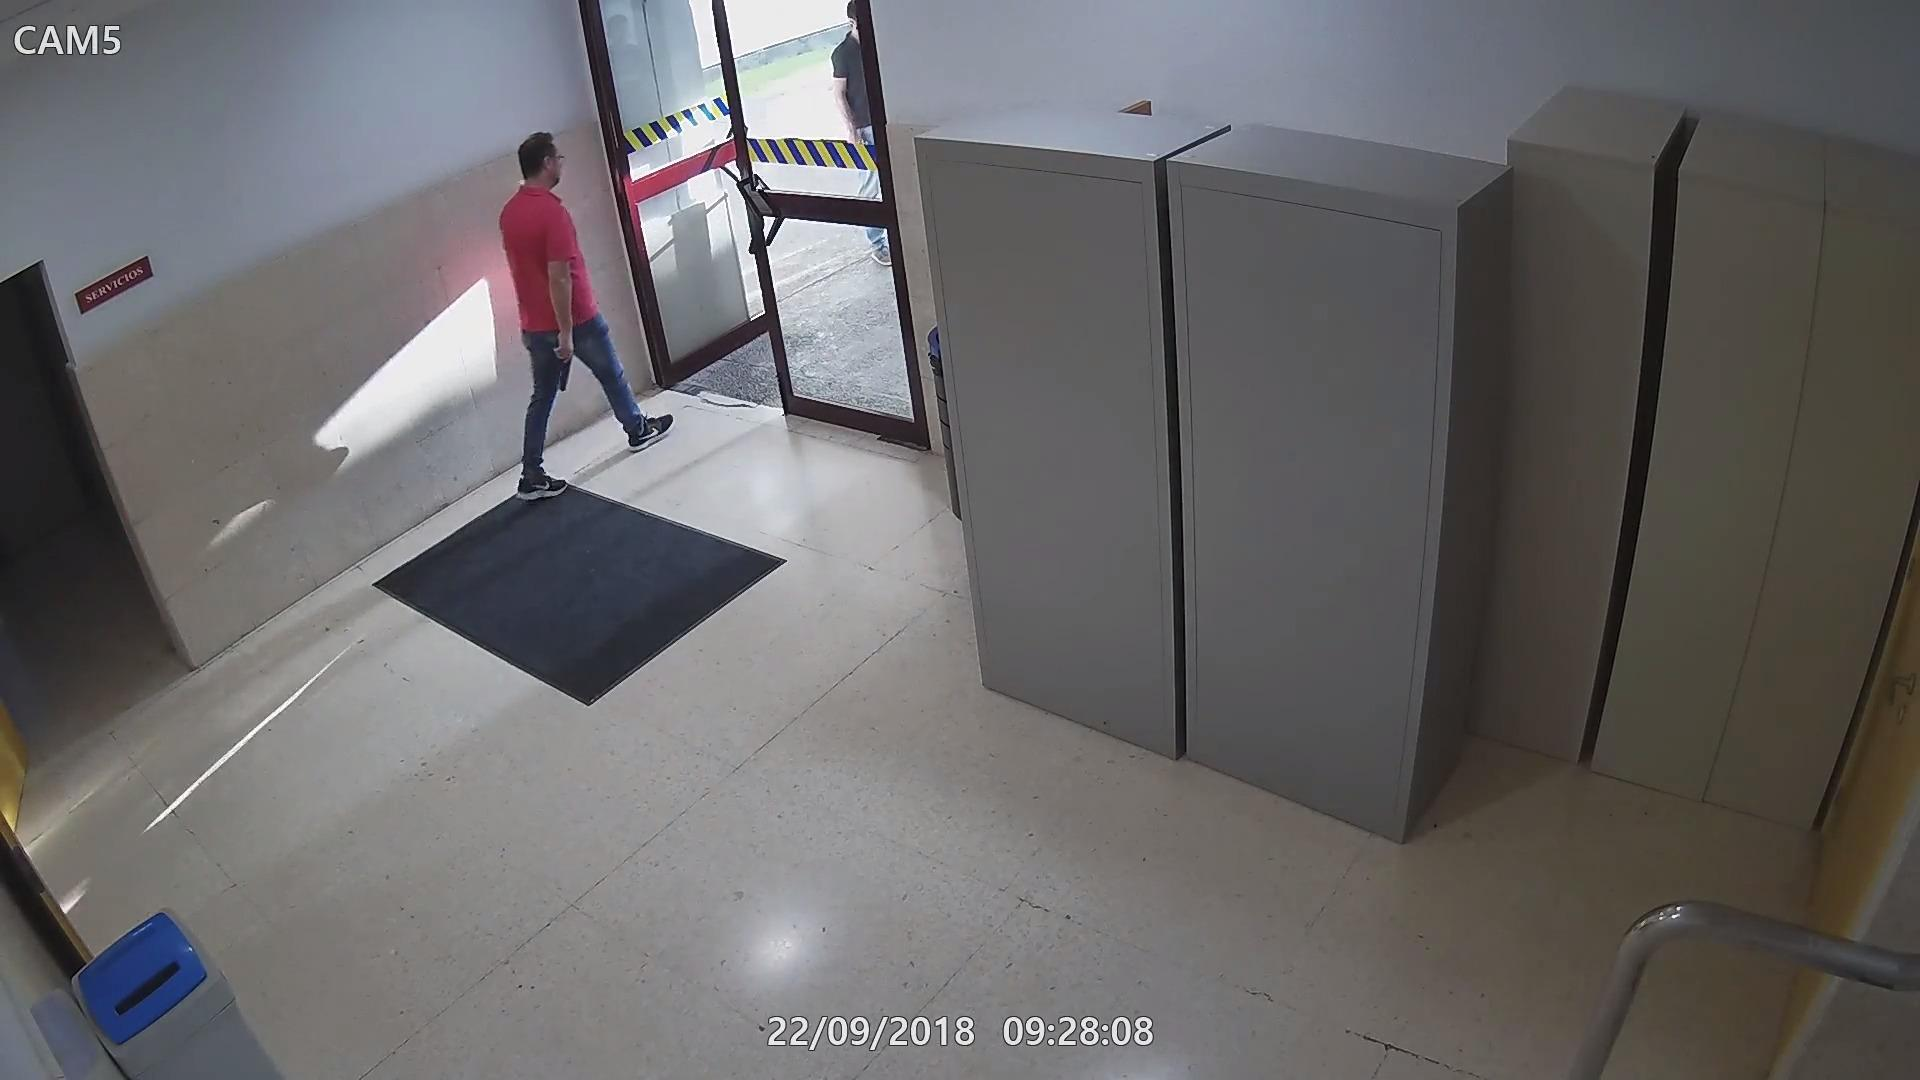Handgun: (553, 327, 579, 394)
